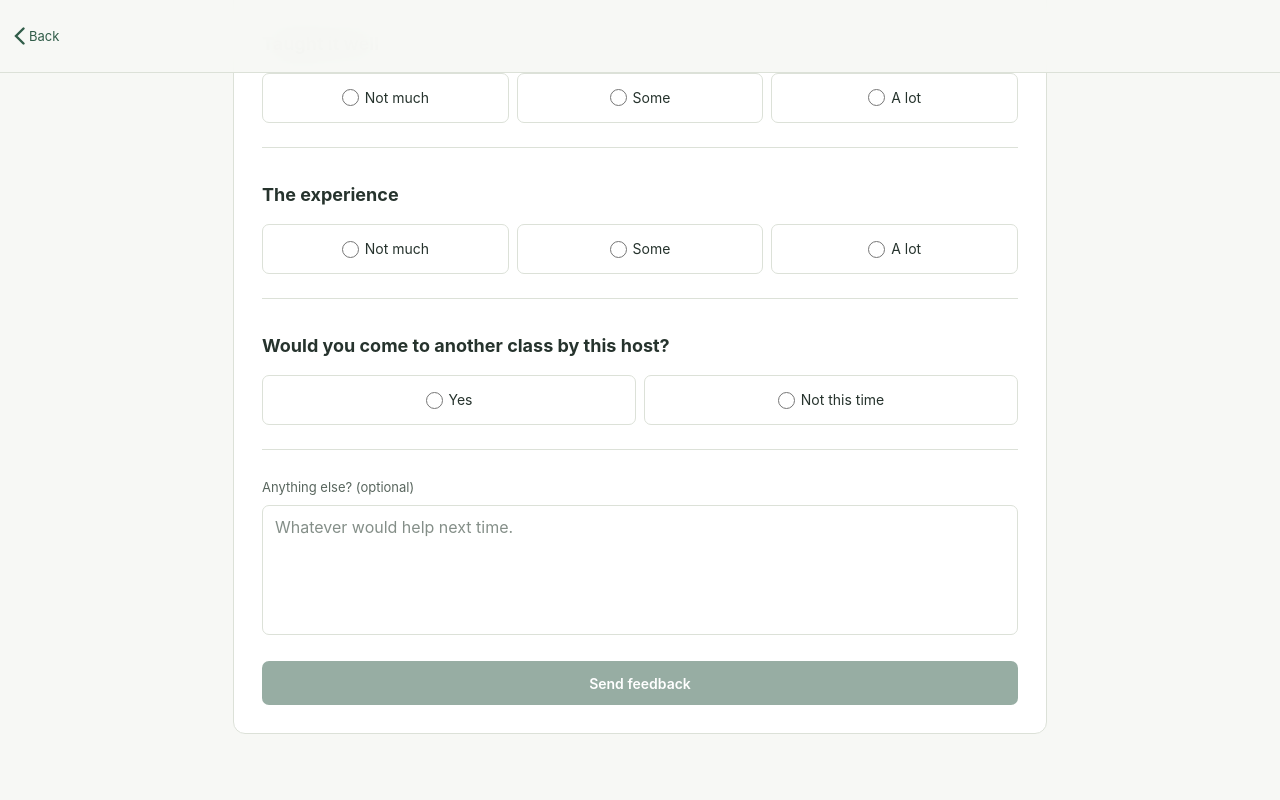
FeedbackScreen › submits "Not this time" as direction: negative
(page scrolled)
Click the radio button labelled "Not this time".
click(786, 400)  # box x1=778 y1=392 x2=795 y2=409
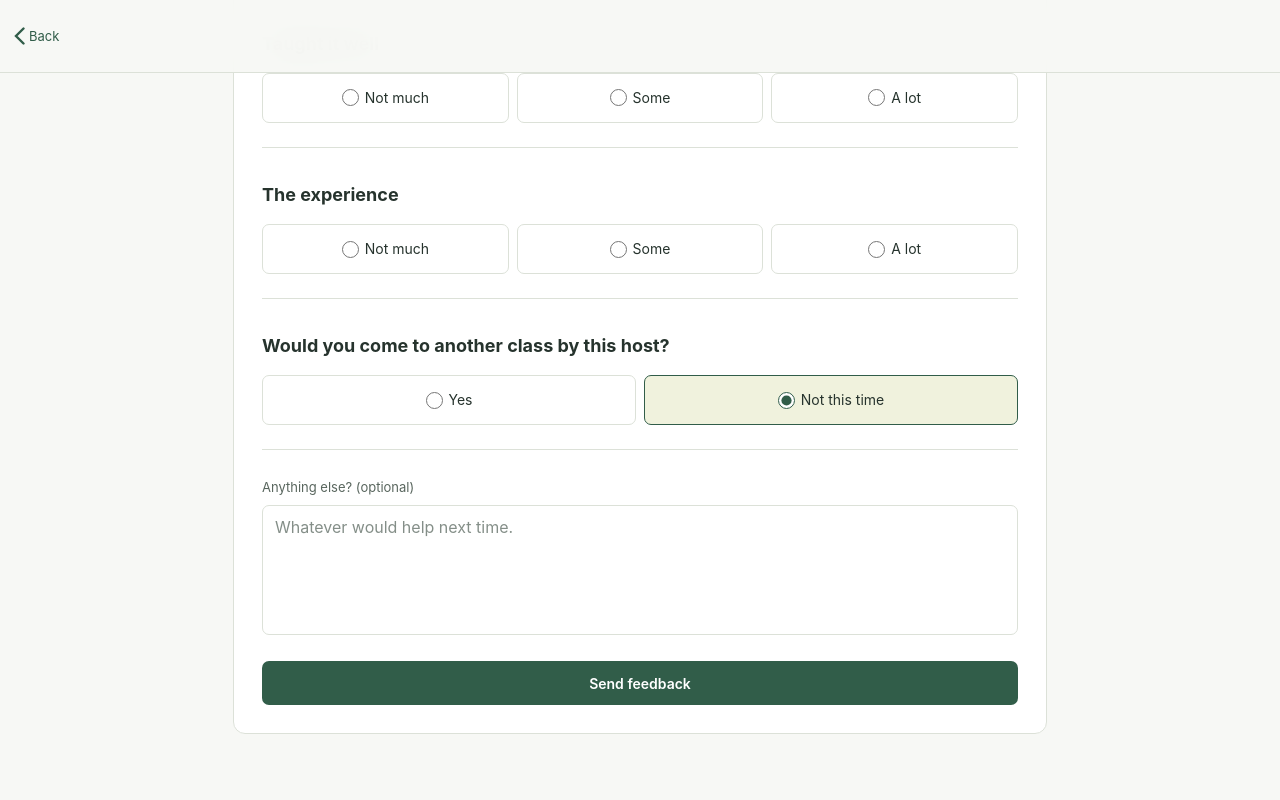
Click the button "Send feedback".
click(640, 684)  # box x1=262 y1=662 x2=1018 y2=706
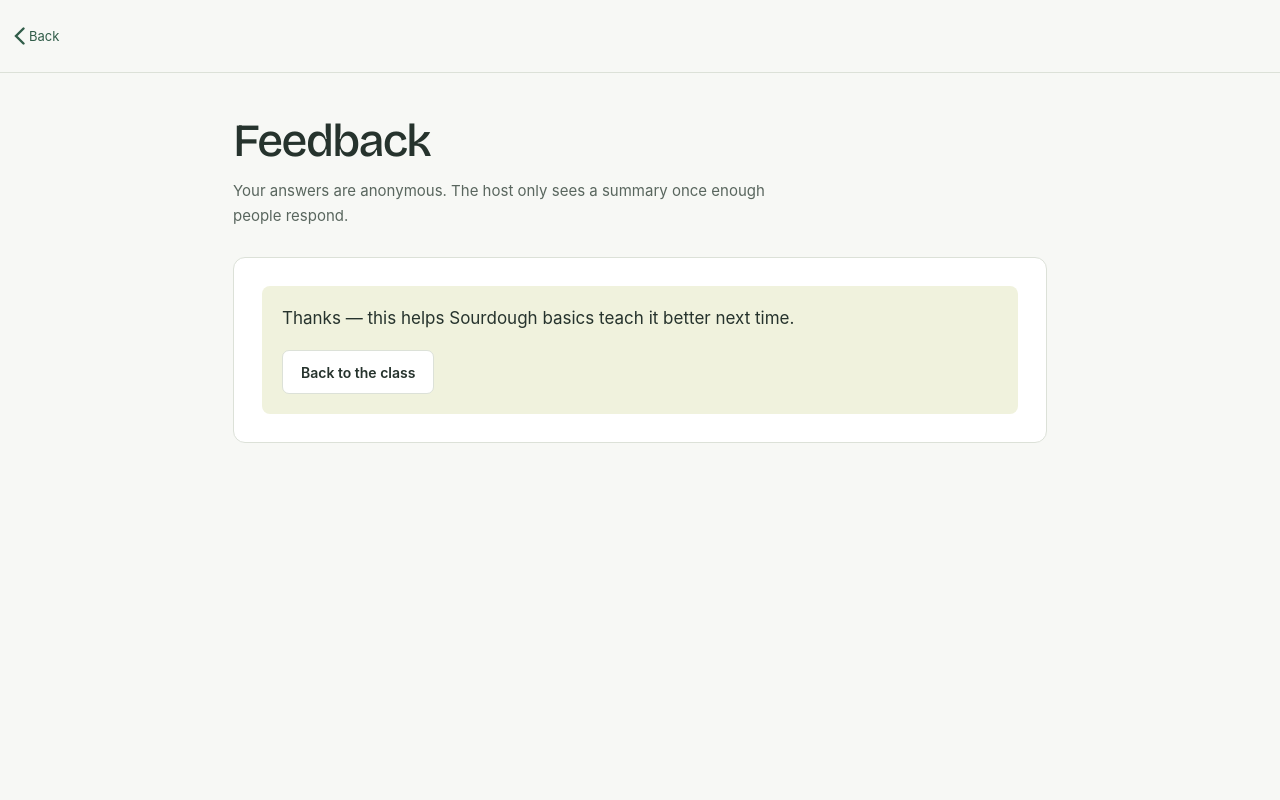
Expected: the text "Thanks" is shown, x1=282 y1=308 x2=449 y2=328
